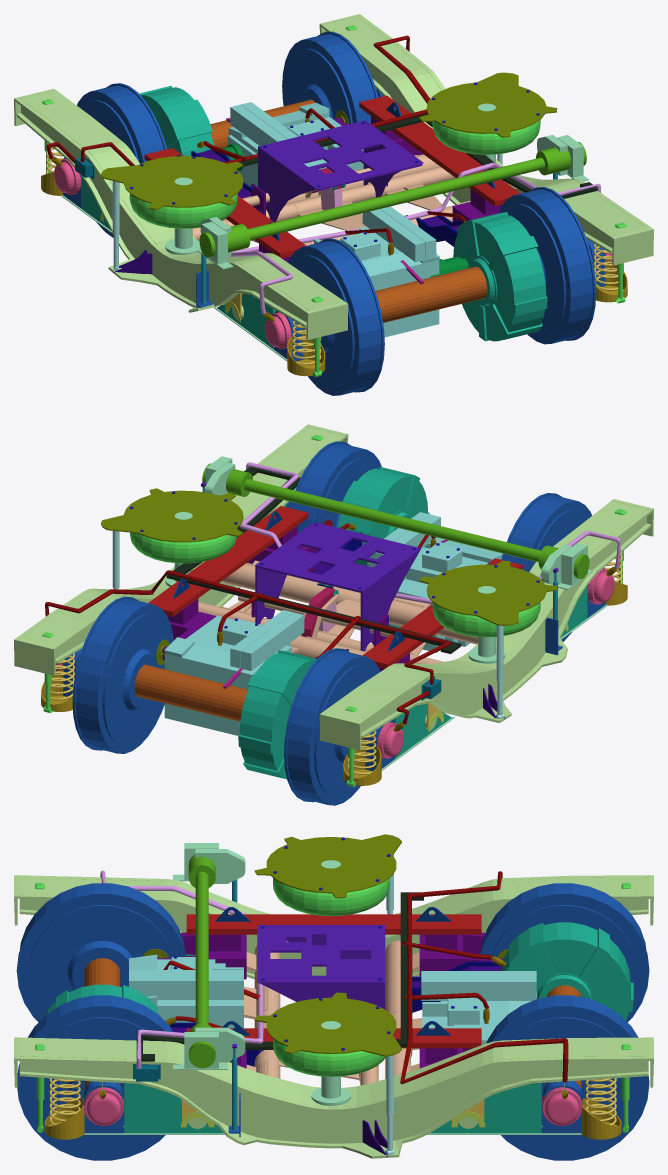
The picture shows the model from 3 angles, top to bottom: view 1: azimuth 30°, elevation 25°; view 2: azimuth 150°, elevation 25°; view 3: azimuth 270°, elevation 25°; orthographic projection. The views are drawn at different scales.
Visible parts, largest first — view 1: Box076, Cylinder185, Cylinder186, Cylinder184, Box090, Cylinder258, Box102, Cylinder194, Cylinder182, Cylinder236, Cylinder264, Cylinder179 (+40 smaller); view 2: Cylinder258, Box076, Cylinder264, Box102, Cylinder259, Cylinder236, Cylinder182, Box090, Cylinder194, Box137, Cylinder185, Cylinder186 (+39 smaller); view 3: Box090, Cylinder184, Cylinder258, Cylinder186, Cylinder259, Box076, Cylinder264, Box102, Cylinder182, Cylinder236, object 177, Box097 (+41 smaller).
Part boxes in pixels (x1,y1,x2,y2): Box076: (21, 91, 341, 322); Cylinder185: (453, 212, 547, 341); Cylinder186: (499, 187, 596, 344); Cylinder184: (288, 238, 384, 395); Box090: (326, 17, 646, 247); Cylinder258: (282, 31, 378, 124); Box102: (260, 121, 422, 190); Cylinder194: (199, 142, 586, 257); Cylinder182: (101, 156, 243, 210); Cylinder236: (419, 72, 557, 137); Cylinder264: (77, 83, 166, 237); Cylinder179: (305, 252, 591, 330); Cylinder258: (72, 596, 173, 753); Box076: (326, 501, 646, 732); Cylinder264: (284, 648, 380, 805); Box102: (257, 522, 418, 592); Cylinder259: (238, 650, 316, 779); Cylinder236: (101, 488, 243, 542); Cylinder182: (419, 560, 556, 625); Box090: (21, 427, 341, 658); Cylinder194: (202, 463, 589, 578); Box137: (164, 615, 291, 735); Cylinder185: (337, 466, 429, 565); Cylinder186: (290, 441, 381, 533); Box090: (19, 1039, 648, 1143); Cylinder184: (16, 883, 186, 1022); Cylinder258: (486, 995, 649, 1160); Cylinder186: (17, 995, 173, 1160); Cylinder259: (501, 922, 633, 1020); Box076: (19, 877, 648, 975); Cylinder264: (480, 883, 649, 1022); Box102: (257, 926, 385, 983); Cylinder182: (254, 834, 401, 898); Cylinder236: (254, 992, 401, 1056); object 177: (19, 1037, 651, 1111); Box097: (186, 914, 481, 934).
Bounding box in the file's own units: 115 × 38.22 × 141.
